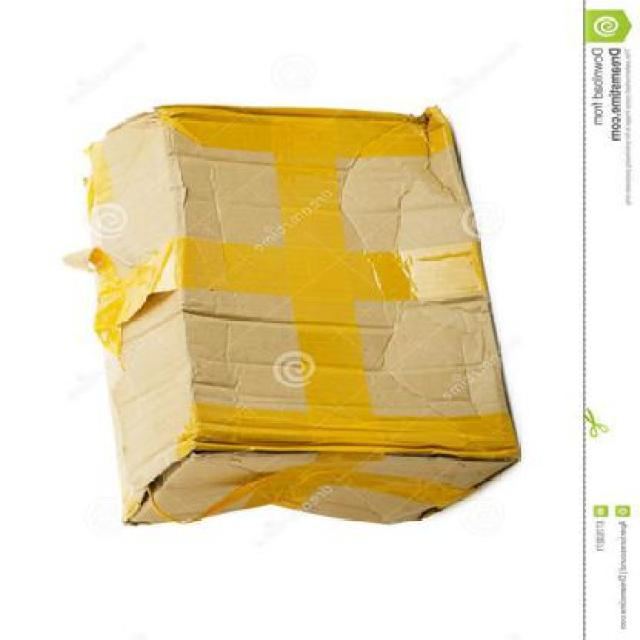defect: (70, 98, 524, 537)
